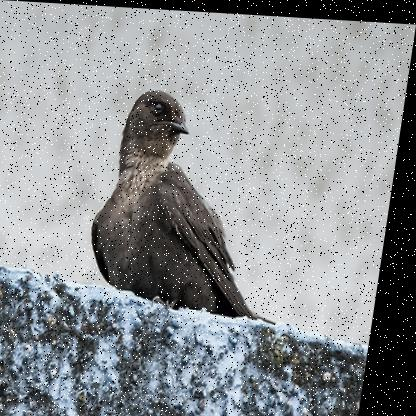Burung: (90, 86, 311, 319)
